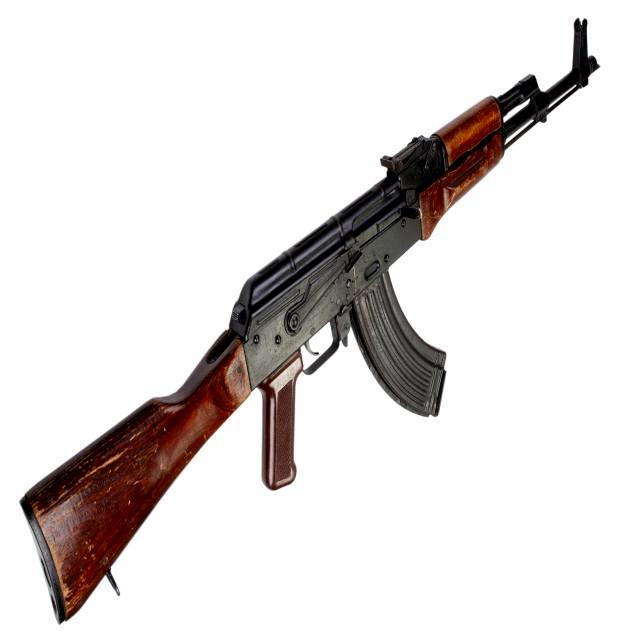ak: (17, 16, 608, 629)
